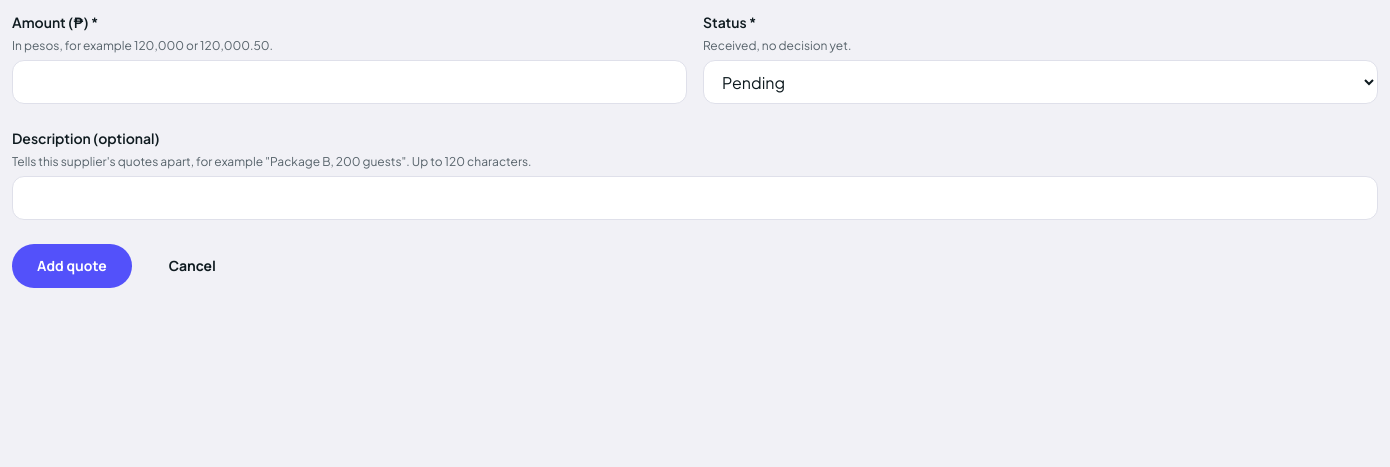
QuoteForm › shows the server's errors beside their fields and in a summary, keeping what was typed
Click the button "Add quote" at x=72, y=266, box [12,244,132,288]
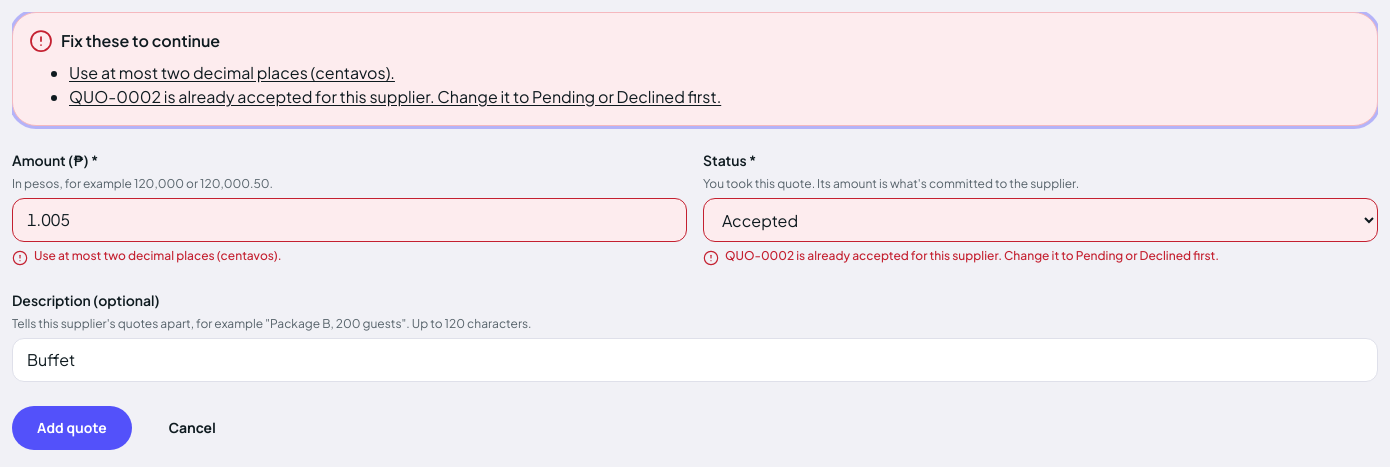
Now the link "Use at most two decimal places (centavos)." is shown, box [69,62,395,83]
Now the field labelled "Amount (₱) *" holds "1.005", box [12,198,687,242]
Now the dropdown labelled "Status *" shows "Accepted", box [703,198,1378,242]
